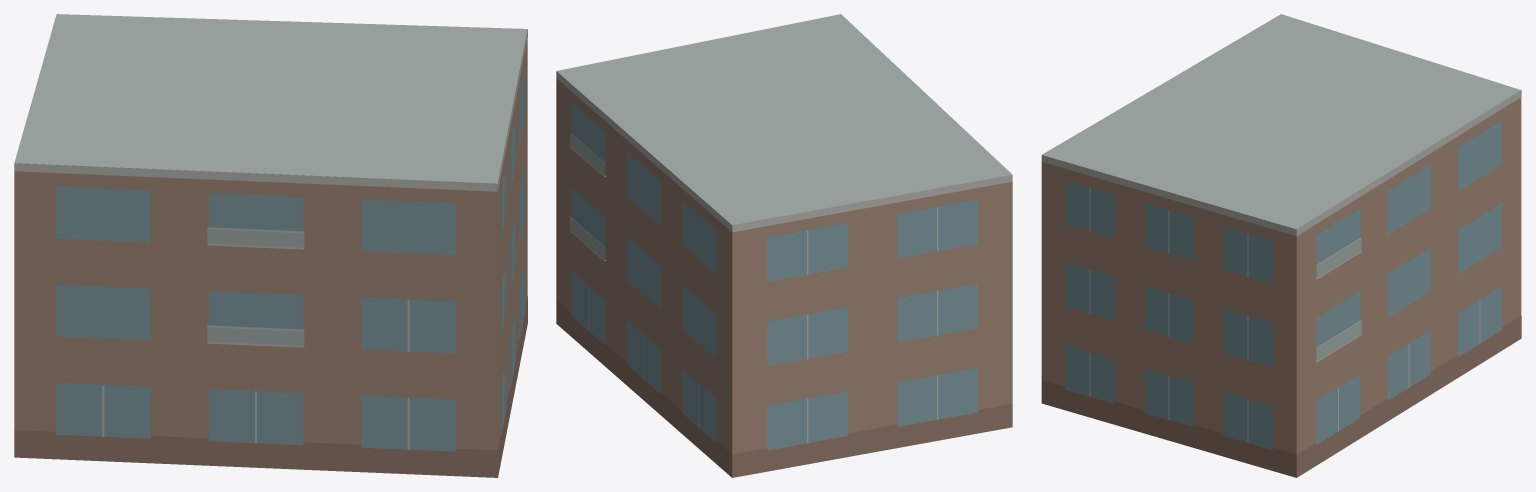
Rendered from survey-upis-32850770.glb.
The picture shows the model from 3 angles, left to right: view 1: azimuth 30°, elevation 25°; view 2: azimuth 150°, elevation 25°; view 3: azimuth 270°, elevation 25°; orthographic projection. The views are drawn at different scales.
Visible parts, largest first — view 1: survey-upis-32850770.tmp; view 2: survey-upis-32850770.tmp; view 3: survey-upis-32850770.tmp.
Boxes of the visible parts, x1,y1,x2,y2 form: survey-upis-32850770.tmp: (14,14,527,477); survey-upis-32850770.tmp: (556,14,1012,477); survey-upis-32850770.tmp: (1041,14,1521,477).
Size of the model in its own units: 16.36 by 8.8 by 15.41.
